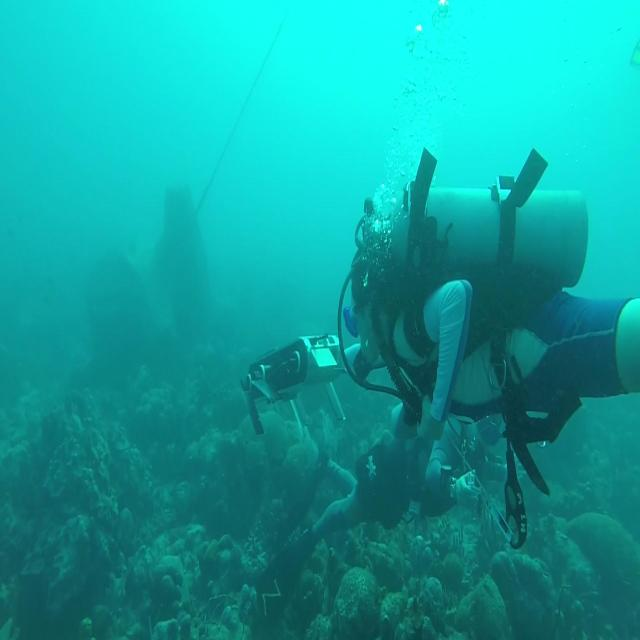human: (242, 145, 639, 603)
